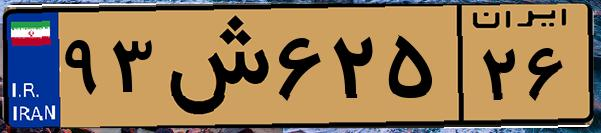2: (330, 28, 385, 110), (475, 38, 525, 113)
3: (110, 28, 158, 98)
5: (385, 28, 445, 110)
6: (270, 28, 330, 110), (525, 38, 570, 115)
9: (57, 26, 110, 100)
ش: (158, 12, 270, 120)
